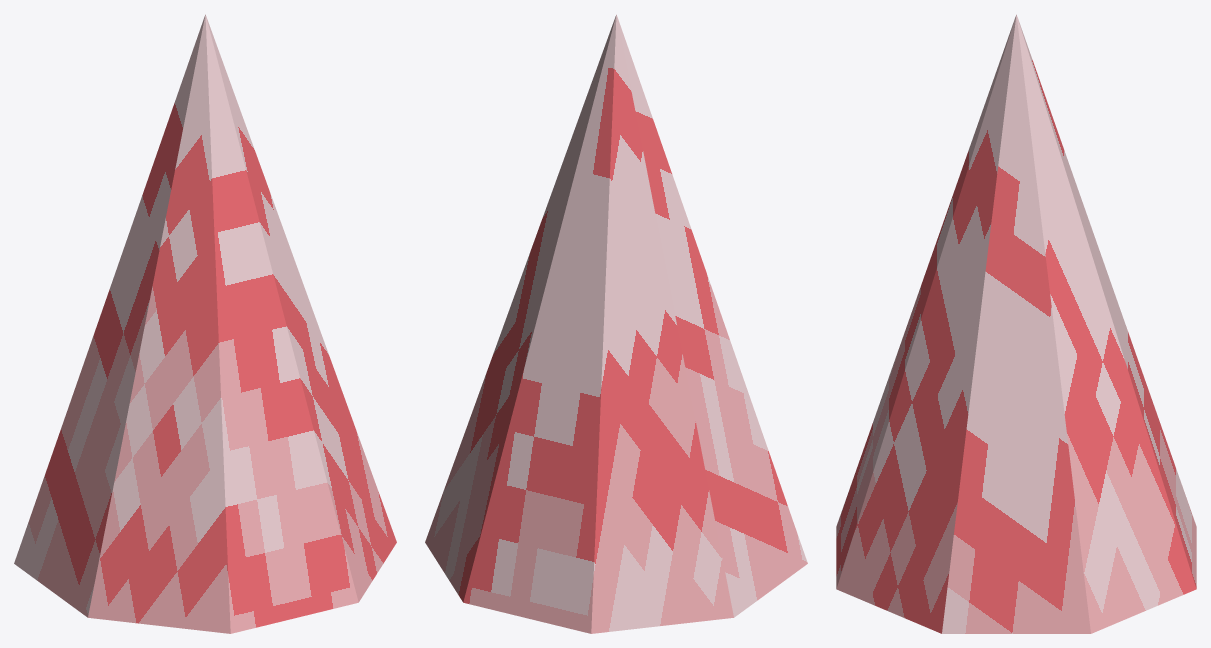
The model's file is Spike.gltf.
The picture shows the model from 3 angles, left to right: view 1: azimuth 30°, elevation 25°; view 2: azimuth 150°, elevation 25°; view 3: azimuth 270°, elevation 25°; orthographic projection.
Parts seen in each view (by area): view 1: cone; view 2: cone; view 3: cone.
Boxes of the visible parts, x1,y1,x2,y2 form: cone: (14, 14, 396, 633); cone: (425, 14, 807, 633); cone: (836, 14, 1196, 633).
Size of the model in its own units: 0.375 by 0.625 by 0.375.
1 material, 1 textured.
